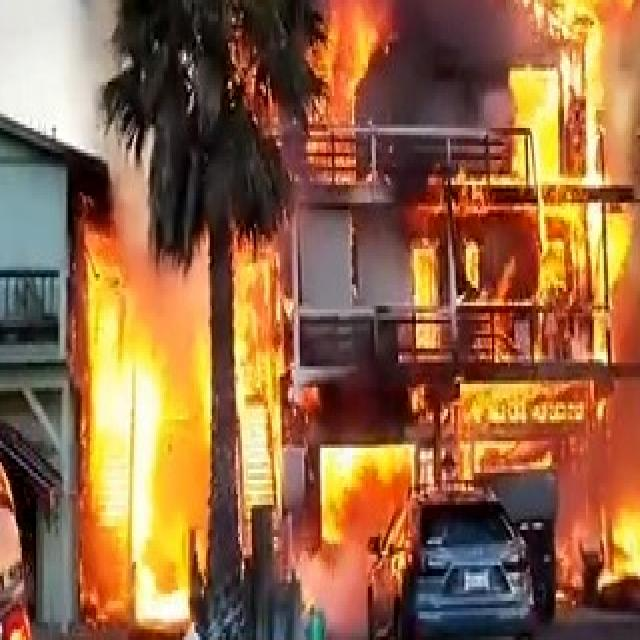fire: (76, 244, 163, 537), (185, 288, 281, 498), (323, 443, 412, 537), (608, 498, 640, 565)
